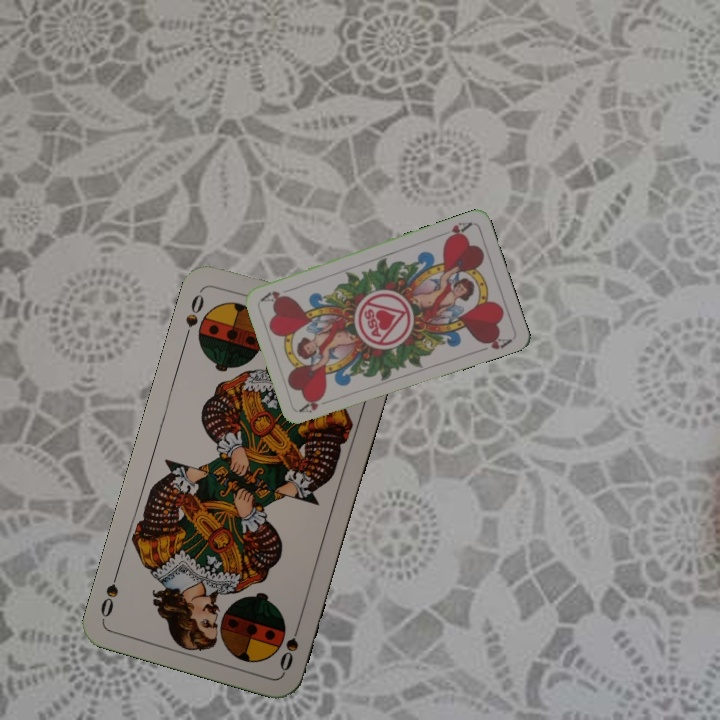HA: (436, 218, 475, 243), (296, 392, 336, 415)
SO: (275, 617, 304, 674), (180, 285, 207, 343)
